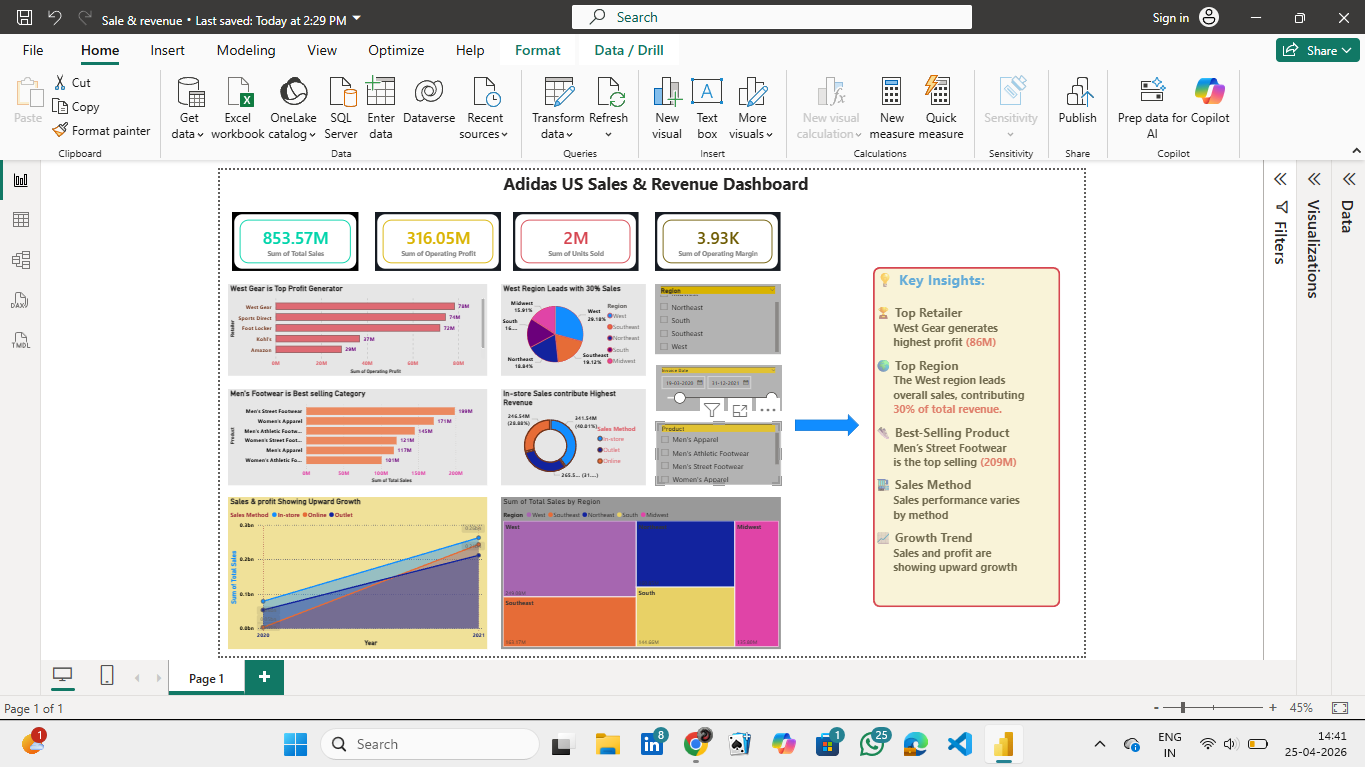

Layout of this report page (visuals, bound fields, positions):
{"tool":"powerbi","page":{"name":"Page 1","canvas":[1920,1080],"ordinal":0},"visuals":[{"type":"cardVisual","fields":{"Data":["Sum(Table 1 (Data Sales Adidas).Total Sales)"]},"box":[26.2,92.5,281.2,131.2],"z":0},{"type":"cardVisual","fields":{"Data":["Sum(Table 1 (Data Sales Adidas).Operating Profit)"]},"box":[345,92.5,280,131.2],"z":1000},{"type":"cardVisual","fields":{"Data":["Sum(Table 1 (Data Sales Adidas).Units Sold)"]},"box":[650,92.5,278.8,131.2],"z":2000},{"type":"cardVisual","fields":{"Data":["Sum(Table 1 (Data Sales Adidas).Operating Margin)"]},"box":[966.2,92.5,278.8,131.2],"z":3000},{"type":"barChart","title":"Men''s Footwear is Best selling Category","fields":{"Category":["Table 1 (Data Sales Adidas).Product"],"Y":["Sum(Table 1 (Data Sales Adidas).Total Sales)"]},"box":[18,486,576,214],"z":4000},{"type":"donutChart","title":"In-store Sales contribute Highest Revenue","fields":{"Category":["Table 1 (Data Sales Adidas).Sales Method"],"Y":["Sum(Table 1 (Data Sales Adidas).Total Sales)"]},"box":[624,486,322,214],"z":5000},{"type":"clusteredBarChart","title":"West Gear is Top Profit Generator","fields":{"Category":["Table 1 (Data Sales Adidas).Retailer"],"Y":["Sum(Table 1 (Data Sales Adidas).Operating Profit)"]},"box":[18,254,576,204],"z":6000},{"type":"pieChart","title":"West Region Leads with 30% Sales","fields":{"Category":["Table 1 (Data Sales Adidas).Region"],"Y":["Sum(Table 1 (Data Sales Adidas).Total Sales)"]},"box":[624,254,322,204],"z":7000},{"type":"slicer","fields":{"Values":["Table 1 (Data Sales Adidas).Region"]},"box":[966,254,280,156],"z":8000},{"type":"slicer","fields":{"Values":["Table 1 (Data Sales Adidas).Invoice Date"]},"box":[968,434,278,102],"z":9000},{"type":"slicer","fields":{"Values":["Table 1 (Data Sales Adidas).Product"]},"box":[968.3,560,278.3,140],"z":10000},{"type":"textbox","box":[594,0,910,66],"z":11000},{"type":"lineChart","title":"Sales & profit Showing Upward Growth","fields":{"Category":["Table 1 (Data Sales Adidas).Invoice Date.Variation.Date Hierarchy.Year","Table 1 (Data Sales Adidas).Invoice Date.Variation.Date Hierarchy.Month"],"Y":["Sum(Table 1 (Data Sales Adidas).Total Sales)"],"Series":["Table 1 (Data Sales Adidas).Sales Method"]},"box":[18,726,576,338],"z":12000},{"type":"textbox","box":[1450,216,416,756],"z":13000},{"type":"shape","box":[1450,216,416,756],"z":14000},{"type":"shape","box":[1277.5,542.5,142.5,50],"z":15000},{"type":"treemap","fields":{"Group":["Table 1 (Data Sales Adidas).Region"],"Values":["Sum(Table 1 (Data Sales Adidas).Total Sales)"]},"box":[624,726,622,338],"z":16000}]}

Visuals, with their boxes on the page's 1920x1080 design canvas (x1, y1, x2, y2). These are canvas units, not pixel positions in the 1365x767 screenshot, which may show the page scaled, cropped or inside an application window:
cardVisual - Sum(Table 1 (Data Sales Adidas).Total Sales): (26,92,307,224)
cardVisual - Sum(Table 1 (Data Sales Adidas).Operating Profit): (345,92,625,224)
cardVisual - Sum(Table 1 (Data Sales Adidas).Units Sold): (650,92,929,224)
cardVisual - Sum(Table 1 (Data Sales Adidas).Operating Margin): (966,92,1245,224)
"Men''s Footwear is Best selling Category" barChart: (18,486,594,700)
"In-store Sales contribute Highest Revenue" donutChart: (624,486,946,700)
"West Gear is Top Profit Generator" clusteredBarChart: (18,254,594,458)
"West Region Leads with 30% Sales" pieChart: (624,254,946,458)
slicer - Table 1 (Data Sales Adidas).Region: (966,254,1246,410)
slicer - Table 1 (Data Sales Adidas).Invoice Date: (968,434,1246,536)
slicer - Table 1 (Data Sales Adidas).Product: (968,560,1247,700)
textbox: (594,0,1504,66)
"Sales & profit Showing Upward Growth" lineChart: (18,726,594,1064)
textbox: (1450,216,1866,972)
shape: (1450,216,1866,972)
shape: (1278,542,1420,592)
treemap - Table 1 (Data Sales Adidas).Region x Sum(Table 1 (Data Sales Adidas).Total Sales): (624,726,1246,1064)
